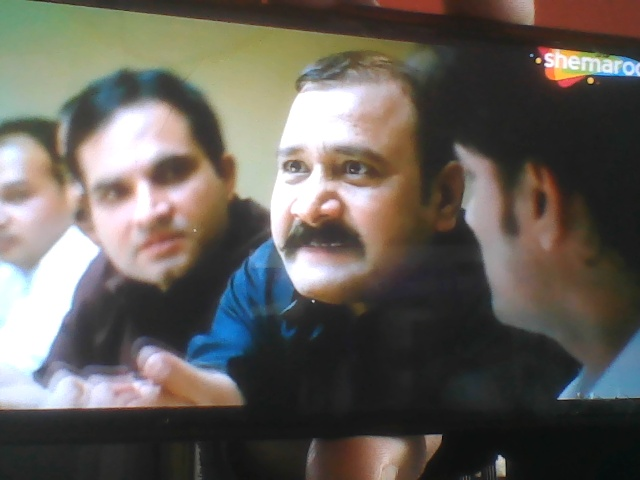fake: (253, 23, 460, 317), (75, 66, 237, 295)
